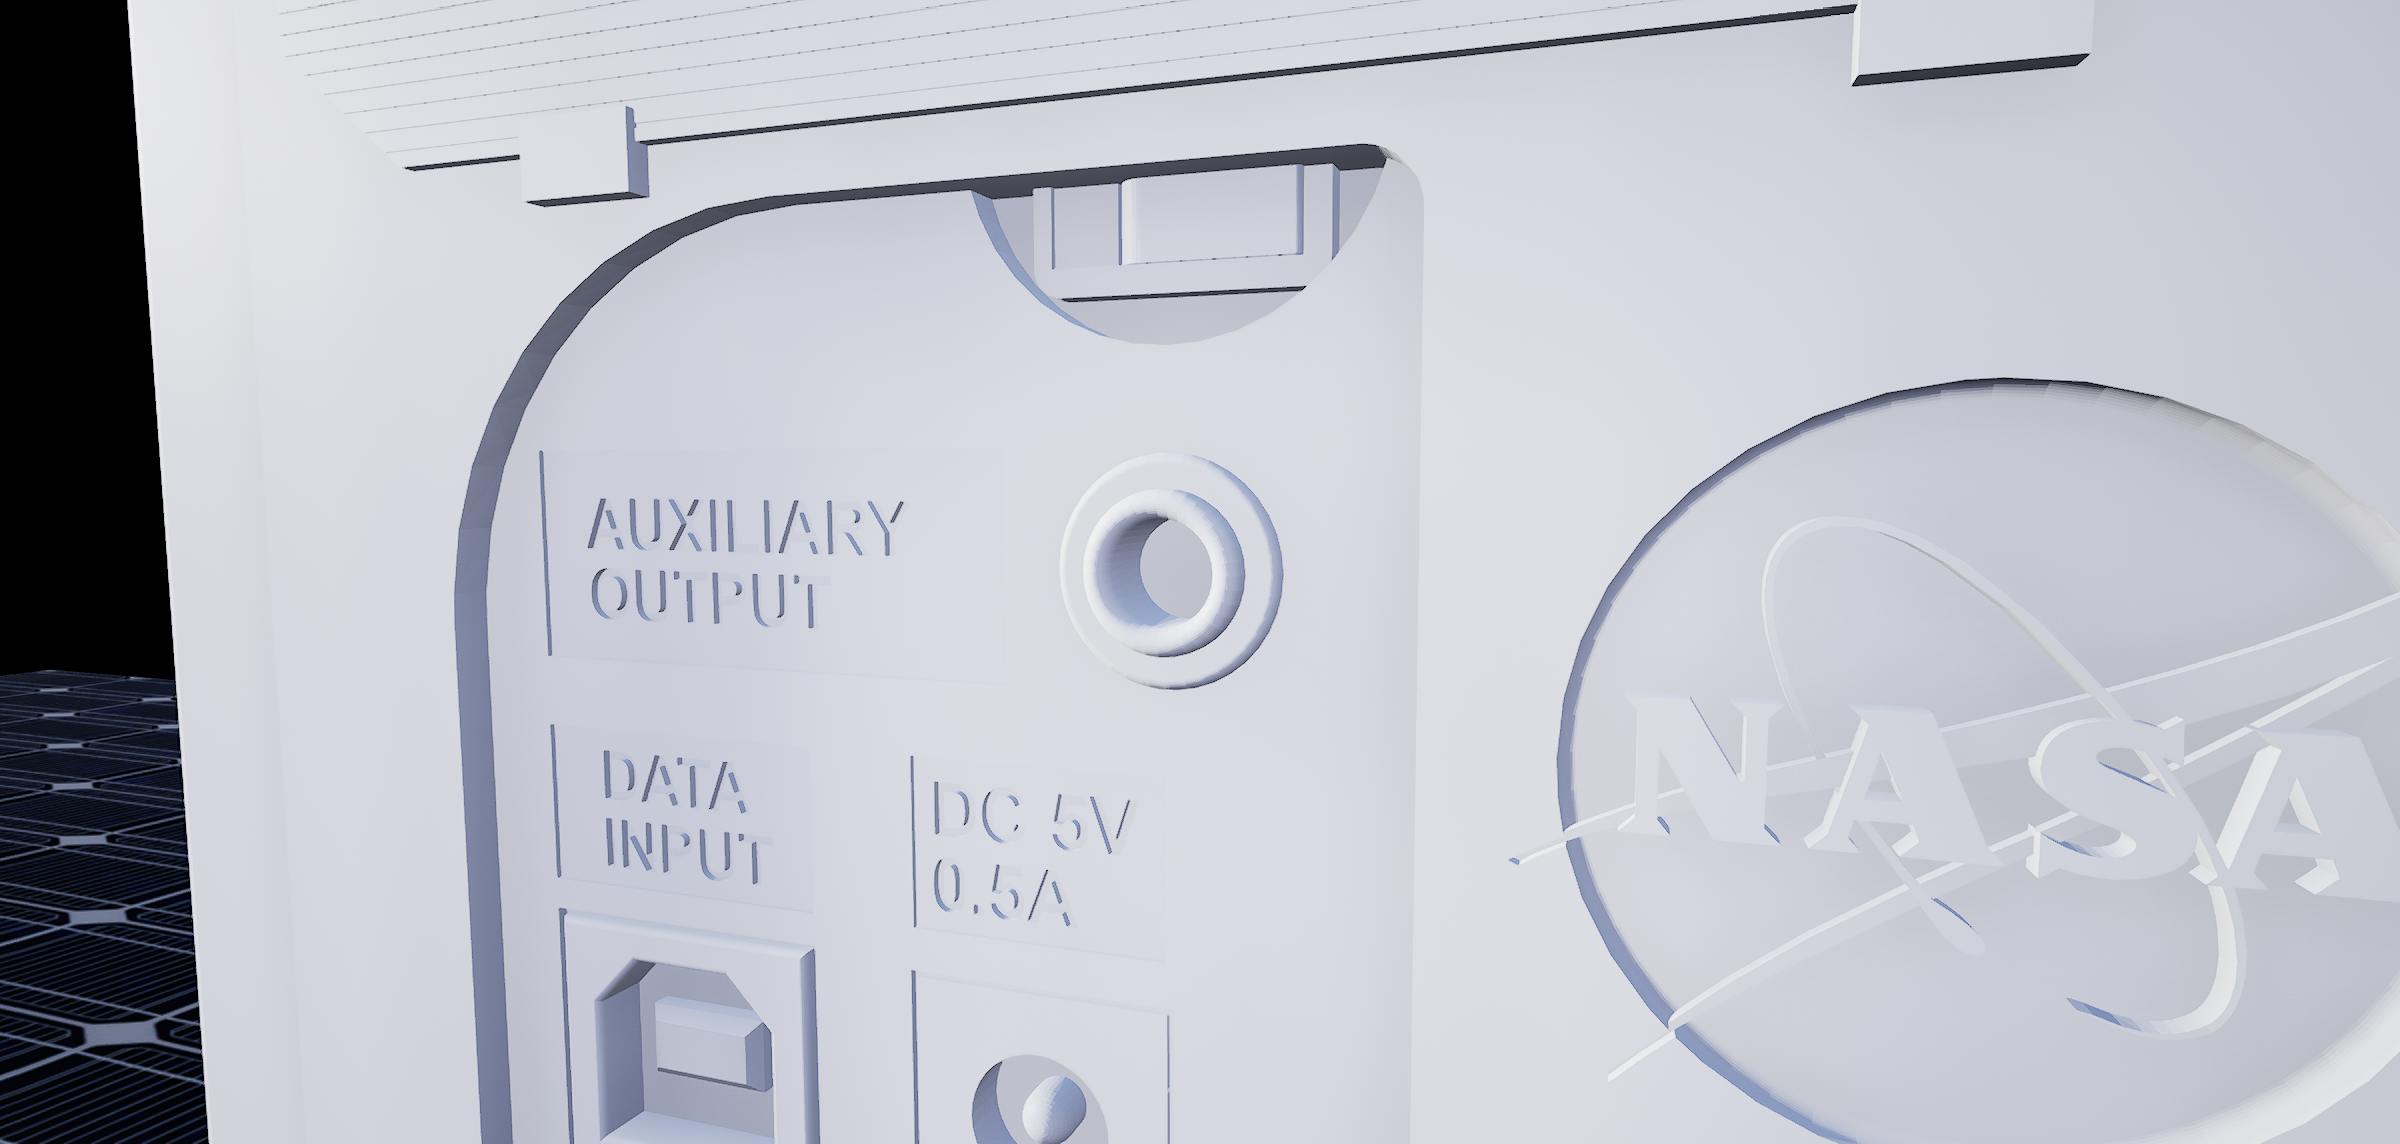aux: (1053, 450, 1296, 700)
dc: (963, 1051, 1127, 1144)
usb: (589, 957, 787, 1144)
